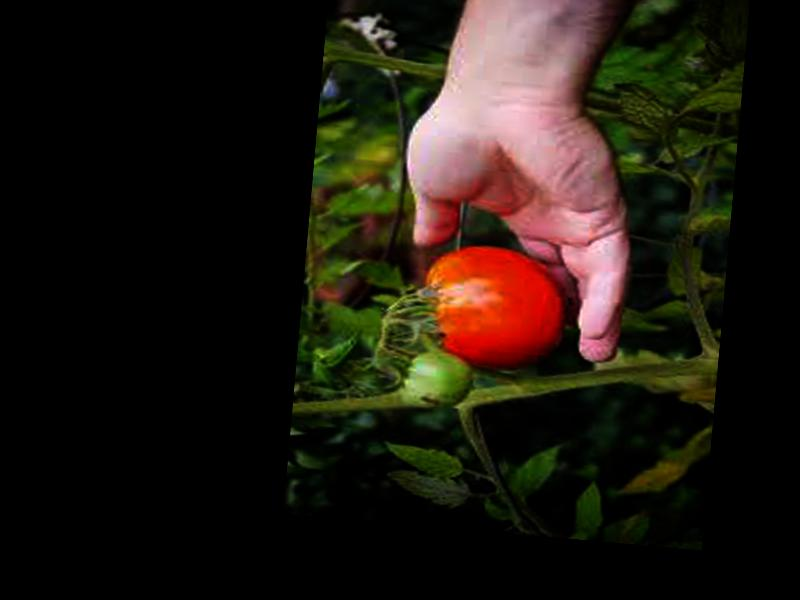Tomato: (414, 239, 570, 377)
